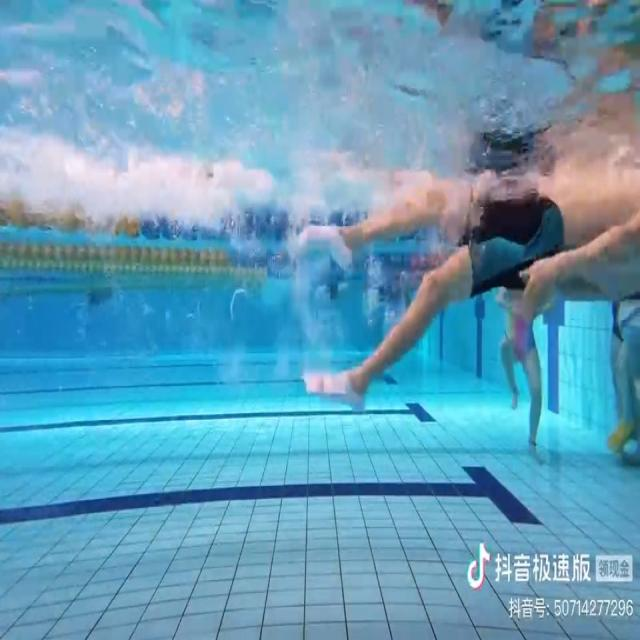Swimming: (302, 138, 640, 412)
